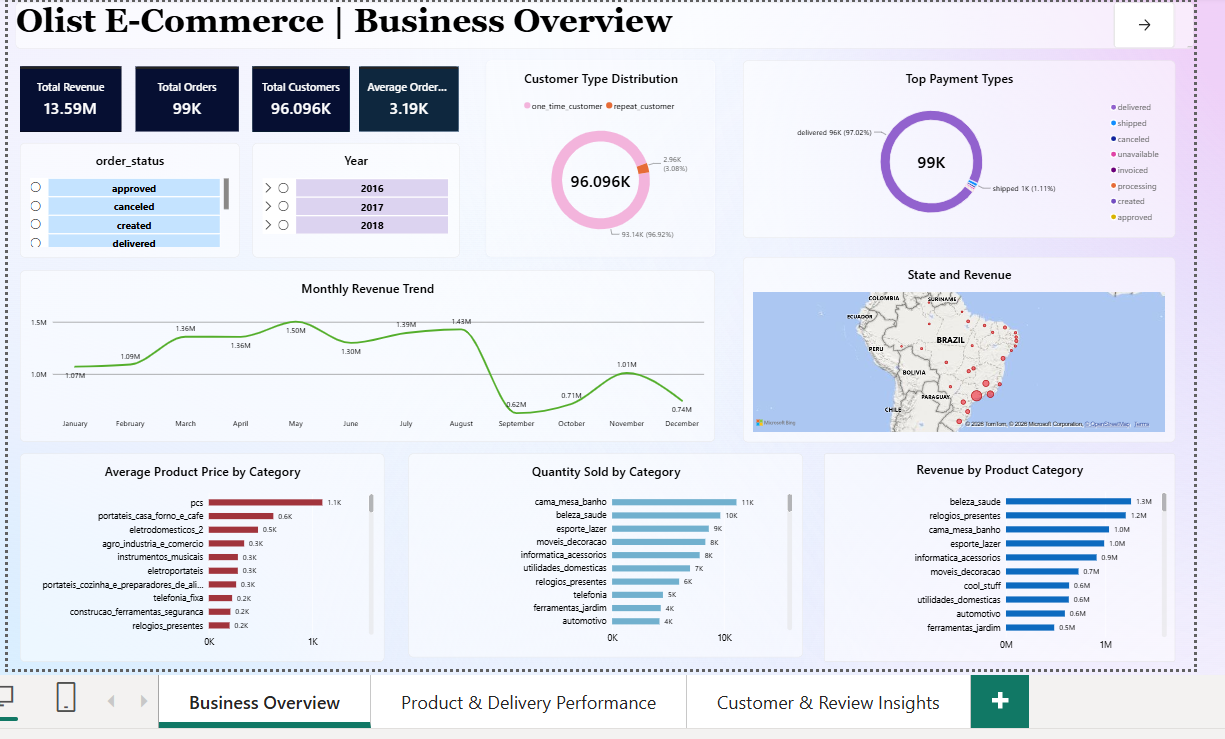

The dashboard page shown, as its layout file describes it:
{"tool":"powerbi","page":{"name":"Business Overview","canvas":[1920,1080],"ordinal":0},"visuals":[{"type":"textbox","title":"Olist E-Commerce | Business Overview   ","box":[12.5,0,1907.5,75],"z":0},{"type":"cardVisual","fields":{"Data":["Sum(public sales_summary.revenue)"]},"box":[20,103.6,164.3,105.7],"z":1000},{"type":"cardVisual","title":"Total Orders","fields":{"Data":["Sum(public sales_summary.total_orders)"]},"box":[207.1,103.6,167.1,105.7],"z":2000},{"type":"cardVisual","fields":{"Data":["Count(public customer_analysis.customer_unique_id)"]},"box":[395.7,103.6,157.1,105.7],"z":3000},{"type":"lineChart","title":"Monthly Revenue Trend","fields":{"Category":["public sales_summary.month.Variation.Date Hierarchy.Month"],"Y":["Sum(public sales_summary.revenue)"]},"box":[20,435,1125,277.5],"z":4000},{"type":"barChart","title":"Revenue by Product Category","fields":{"Category":["public product_analysis.product_category_name"],"Y":["Sum(public product_analysis.revenue)"]},"box":[1321.3,731.1,568.3,337.6],"z":5000},{"type":"cardVisual","title":"k","fields":{"Data":["Sum(public sales_summary.average_order_value)"]},"box":[568.6,103.6,161.4,105.7],"z":6000},{"type":"map","title":"State and Revenue","fields":{"Category":["public state_geo_sales.state"],"Size":["Sum(public state_geo_sales.revenue)"],"X":["Avg(public state_geo_sales.longitude)"],"Y":["Avg(public state_geo_sales.latitude)"]},"box":[1190,412.5,700,300],"z":7000},{"type":"donutChart","title":"Top Payment Types","fields":{"Category":["public order_status_analysis.order_status"],"Y":["Sum(public order_status_analysis.order_count)"]},"box":[1190,95,700,287.5],"z":8000},{"type":"barChart","title":"Quantity Sold by Category","fields":{"Category":["public product_analysis.product_category_name"],"Y":["Sum(public product_analysis.quantity_sold)"]},"box":[648.5,731.1,638.8,330.3],"z":9000},{"type":"barChart","title":"Average Product Price by Category","fields":{"Category":["public product_analysis.product_category_name"],"Y":["Sum(public product_analysis.average_price)"]},"box":[19.4,731.1,590.2,337.6],"z":10000},{"type":"donutChart","title":"Customer Type Distribution","fields":{"Category":["public customer_analysis.customer_type"],"Y":["Count(public customer_analysis.customer_unique_id)"]},"box":[775,95,370,317.5],"z":11000},{"type":"listSlicer","fields":{"Values":["public sales_summary.month.Variation.Date Hierarchy.Year","public sales_summary.month.Variation.Date Hierarchy.Quarter","public sales_summary.month.Variation.Date Hierarchy.Month","public sales_summary.month.Variation.Date Hierarchy.Day"]},"box":[395,227.5,335,185],"z":12000},{"type":"listSlicer","fields":{"Values":["public order_status_analysis.order_status"]},"box":[20,227.5,355,185],"z":13000},{"type":"actionButton","box":[1790,0,100,75],"z":14000}]}

Visuals, with their boxes on the page's 1920x1080 design canvas (x1, y1, x2, y2). These are canvas units, not pixel positions in the 1225x739 screenshot, which may show the page scaled, cropped or inside an application window:
"Olist E-Commerce | Business Overview   " textbox: select_region(12, 0, 1920, 75)
cardVisual - Sum(public sales_summary.revenue): select_region(20, 104, 184, 209)
"Total Orders" cardVisual: select_region(207, 104, 374, 209)
cardVisual - Count(public customer_analysis.customer_unique_id): select_region(396, 104, 553, 209)
"Monthly Revenue Trend" lineChart: select_region(20, 435, 1145, 712)
"Revenue by Product Category" barChart: select_region(1321, 731, 1890, 1069)
"k" cardVisual: select_region(569, 104, 730, 209)
"State and Revenue" map: select_region(1190, 412, 1890, 712)
"Top Payment Types" donutChart: select_region(1190, 95, 1890, 382)
"Quantity Sold by Category" barChart: select_region(648, 731, 1287, 1061)
"Average Product Price by Category" barChart: select_region(19, 731, 610, 1069)
"Customer Type Distribution" donutChart: select_region(775, 95, 1145, 412)
listSlicer - public sales_summary.month.Variation.Date Hierarchy.Year x public sales_summary.month.Variation.Date Hierarchy.Quarter: select_region(395, 228, 730, 412)
listSlicer - public order_status_analysis.order_status: select_region(20, 228, 375, 412)
actionButton: select_region(1790, 0, 1890, 75)
